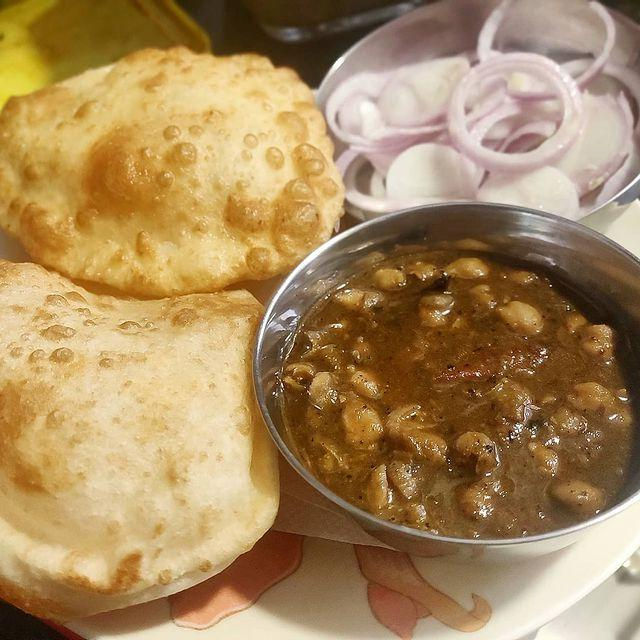Chole: (302, 253, 635, 524)
